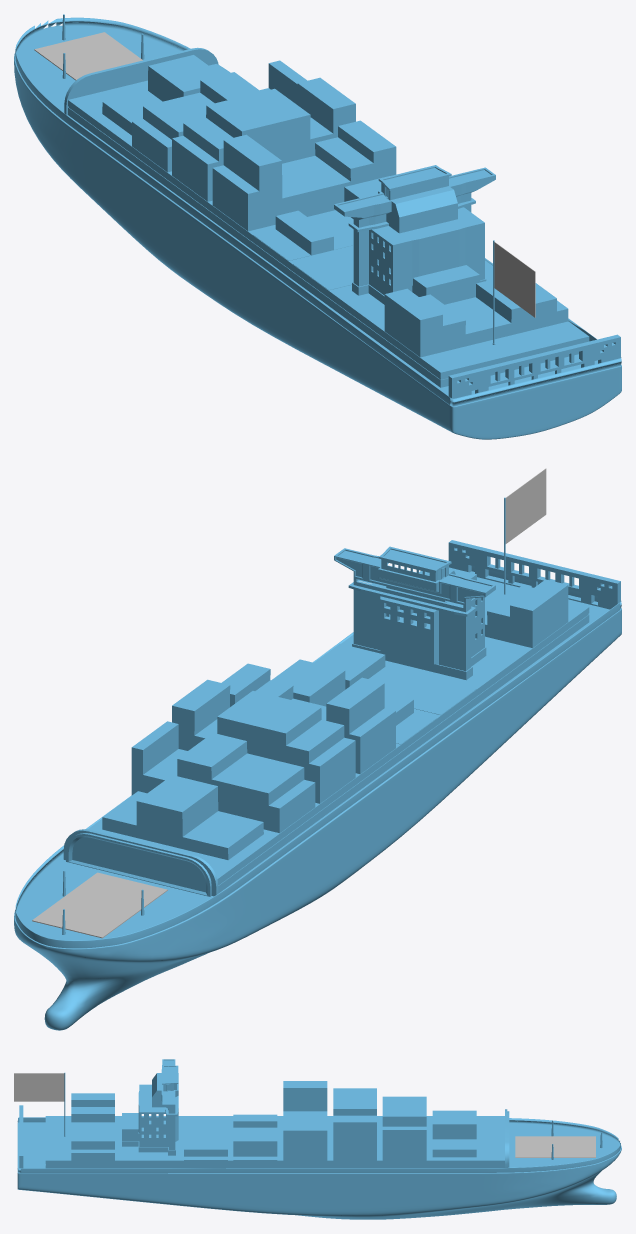
File: ship3 (1).gltf
3 views of the same model, one above another, from view 1: azimuth 30°, elevation 25°; view 2: azimuth 150°, elevation 25°; view 3: azimuth 270°, elevation 25° (orthographic). The views are drawn at different scales.
Parts seen in each view (by area): view 1: obj01, obj02, Line002, Line005, Line004, Line003, Line001, Line007, flag1, flag0, Line006; view 2: obj01, obj02, Line005, Line003, Line007, Line002, flag1, Line004, Line006, Line001, flag0; view 3: obj01, obj02, Line002, Line005, Line004, Line003, Line007, Line001, Line006, flag1, flag0.
Boxes of the visible parts, x1,y1,x2,y2 form: obj01: [14, 17, 621, 439]; obj02: [25, 14, 620, 398]; Line002: [212, 120, 396, 231]; Line005: [172, 77, 355, 201]; Line004: [384, 279, 568, 357]; Line003: [132, 60, 306, 172]; Line001: [253, 176, 389, 260]; Line007: [102, 55, 230, 135]; flag1: [34, 32, 142, 80]; flag0: [494, 242, 535, 317]; Line006: [293, 249, 353, 290]; obj01: [14, 566, 621, 1030]; obj02: [20, 540, 620, 934]; Line005: [172, 679, 355, 803]; Line003: [131, 721, 315, 833]; Line007: [102, 775, 263, 859]; Line002: [221, 663, 395, 774]; flag1: [32, 872, 167, 938]; Line004: [386, 567, 568, 647]; Line006: [314, 643, 476, 714]; Line001: [271, 659, 436, 744]; flag0: [505, 468, 546, 543]; obj01: [17, 1117, 621, 1219]; obj02: [19, 1059, 602, 1168]; Line002: [283, 1081, 327, 1160]; Line005: [333, 1088, 376, 1160]; Line004: [71, 1093, 114, 1160]; Line003: [382, 1096, 426, 1160]; Line007: [432, 1110, 476, 1157]; Line001: [233, 1114, 277, 1160]; Line006: [184, 1116, 227, 1160]; flag1: [515, 1136, 595, 1157]; flag0: [14, 1073, 64, 1101].
Bounding box in the file's own units: 7.92 × 9.8 × 39.69.
